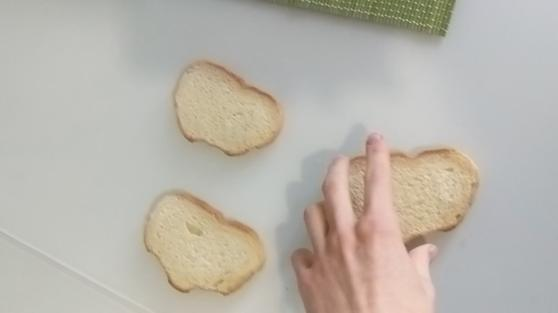white_bread: (144, 190, 266, 293), (337, 149, 477, 238), (172, 60, 282, 156)
